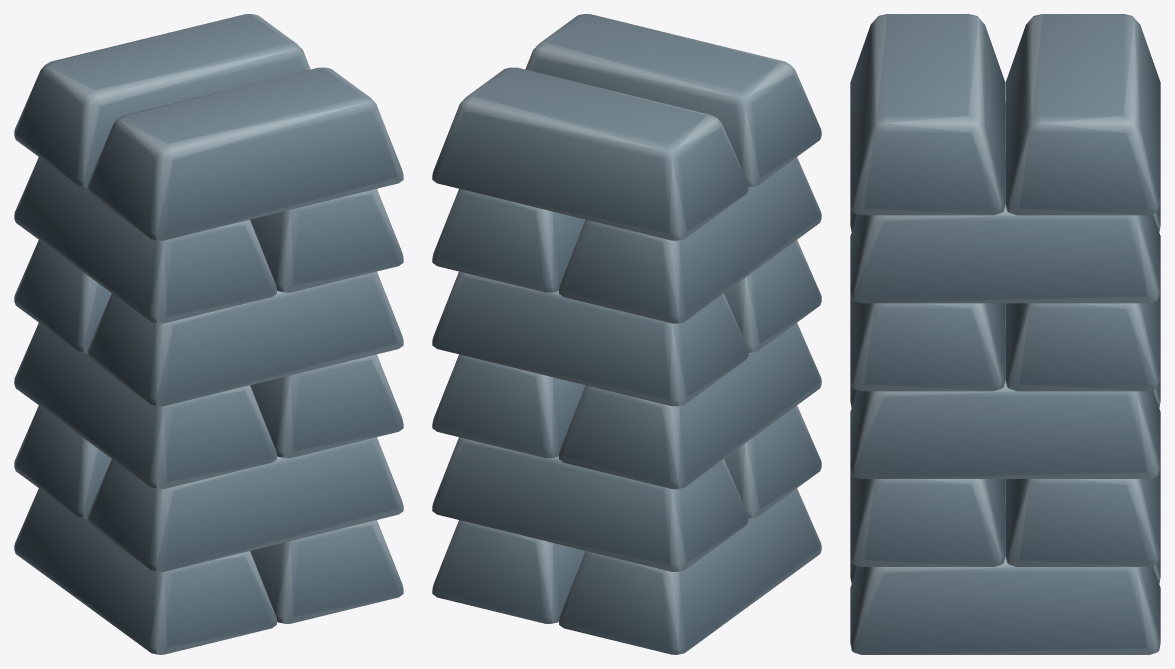
The model's file is Iron_Bars_Stack_Medium.glb.
The picture shows the model from 3 angles, left to right: view 1: azimuth 30°, elevation 25°; view 2: azimuth 150°, elevation 25°; view 3: azimuth 270°, elevation 25°; orthographic projection. The views are drawn at different scales.
Parts seen in each view (by area): view 1: Iron_Bars_Stack_Medium; view 2: Iron_Bars_Stack_Medium; view 3: Iron_Bars_Stack_Medium.
Part boxes in pixels (left/top/right/bottom): Iron_Bars_Stack_Medium: left=14, top=14, right=403, bottom=654; Iron_Bars_Stack_Medium: left=432, top=14, right=821, bottom=654; Iron_Bars_Stack_Medium: left=850, top=14, right=1160, bottom=654.
Bounding box in the file's own units: 0.8 × 1.5 × 0.8.
1 material, 1 textured.
